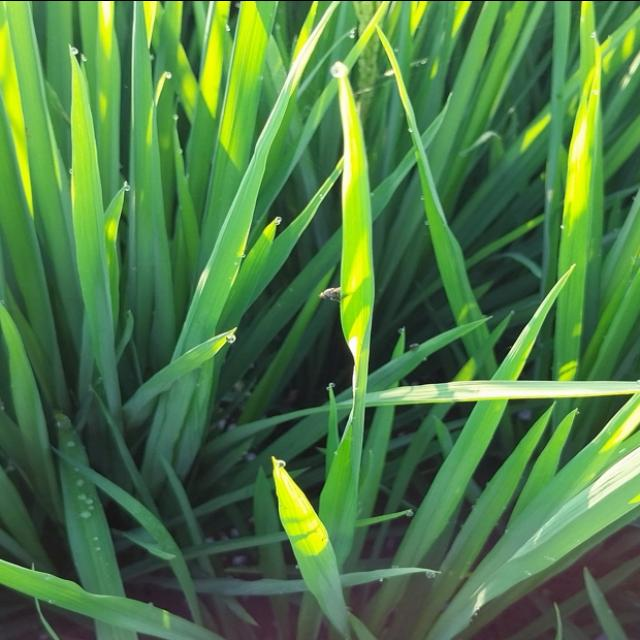healthy: (316, 280, 349, 308)
